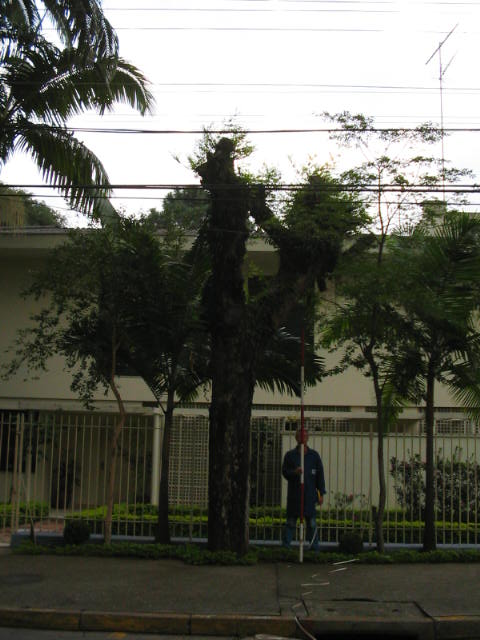stem: (193, 326, 272, 549)
stick: (294, 329, 314, 565)
tree: (183, 135, 349, 551)
